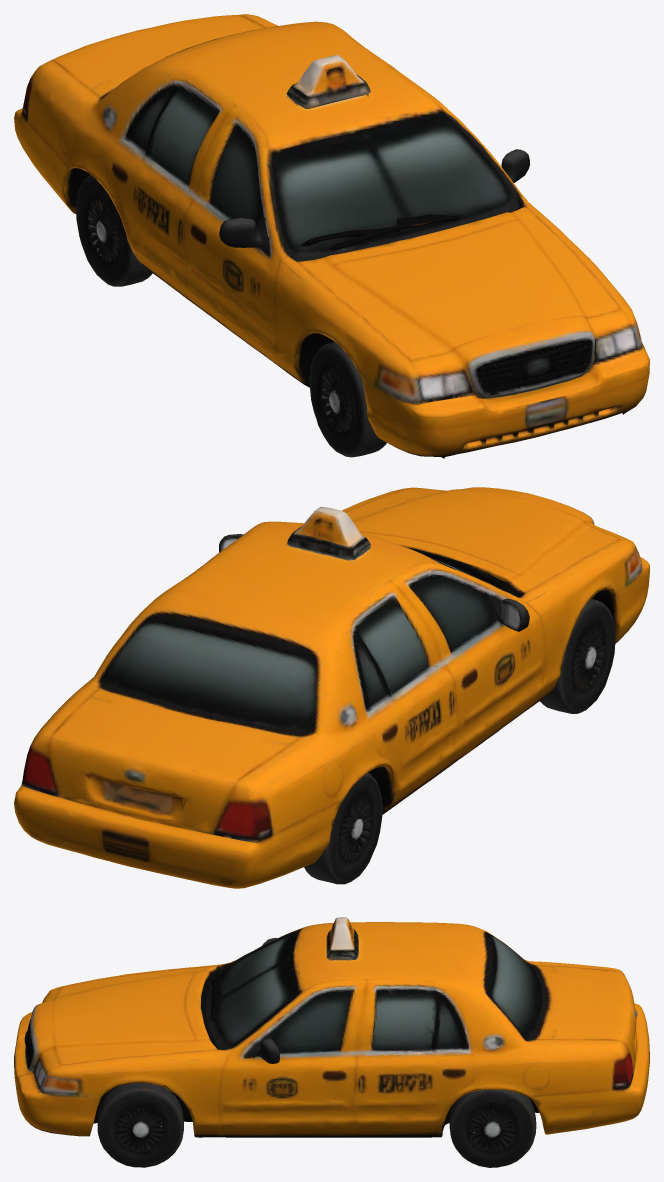
File: car_trellis_5.glb
The picture shows the model from 3 angles, top to bottom: view 1: azimuth 30°, elevation 25°; view 2: azimuth 150°, elevation 25°; view 3: azimuth 270°, elevation 25°; orthographic projection. The views are drawn at different scales.
Visible parts, largest first — view 1: world; view 2: world; view 3: world.
Part boxes in pixels (box(x1,y1,x2,y2)): world: box(14, 14, 649, 458); world: box(14, 487, 649, 888); world: box(14, 917, 649, 1167).
Bounding box in the file's own units: 0.4217 × 0.3509 × 1.
1 material, 1 textured.
